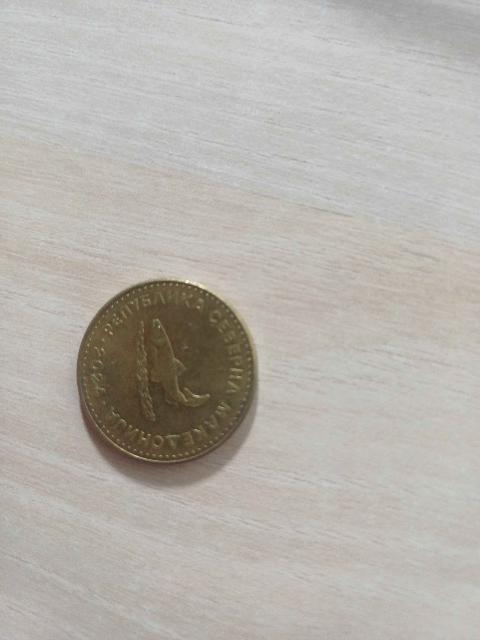coin: (78, 279, 256, 463)
